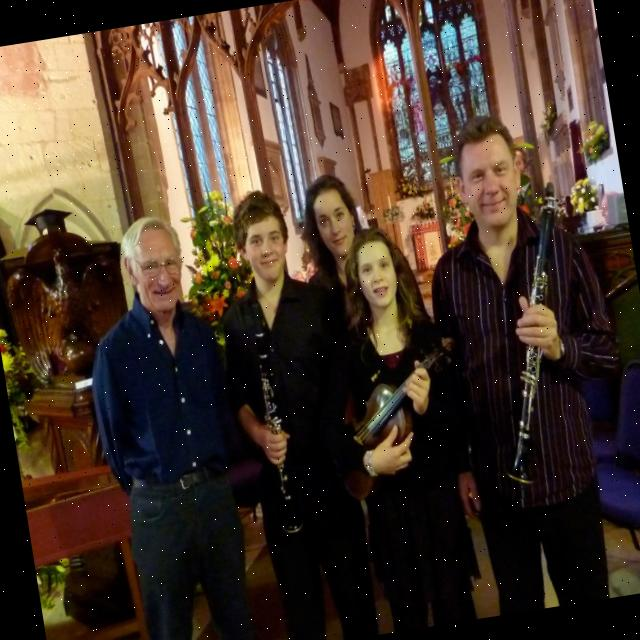clarinet: (459, 177, 609, 492), (242, 299, 312, 540)
violin: (317, 332, 479, 508)
